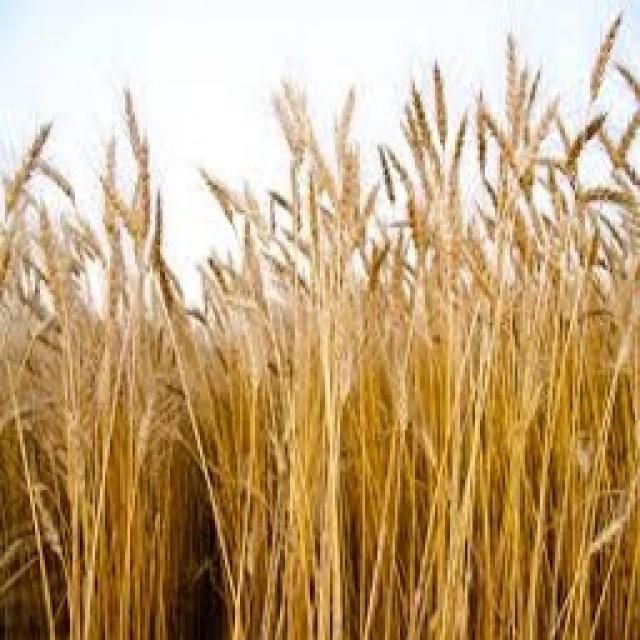Healthy Wheat: (0, 2, 638, 638)
